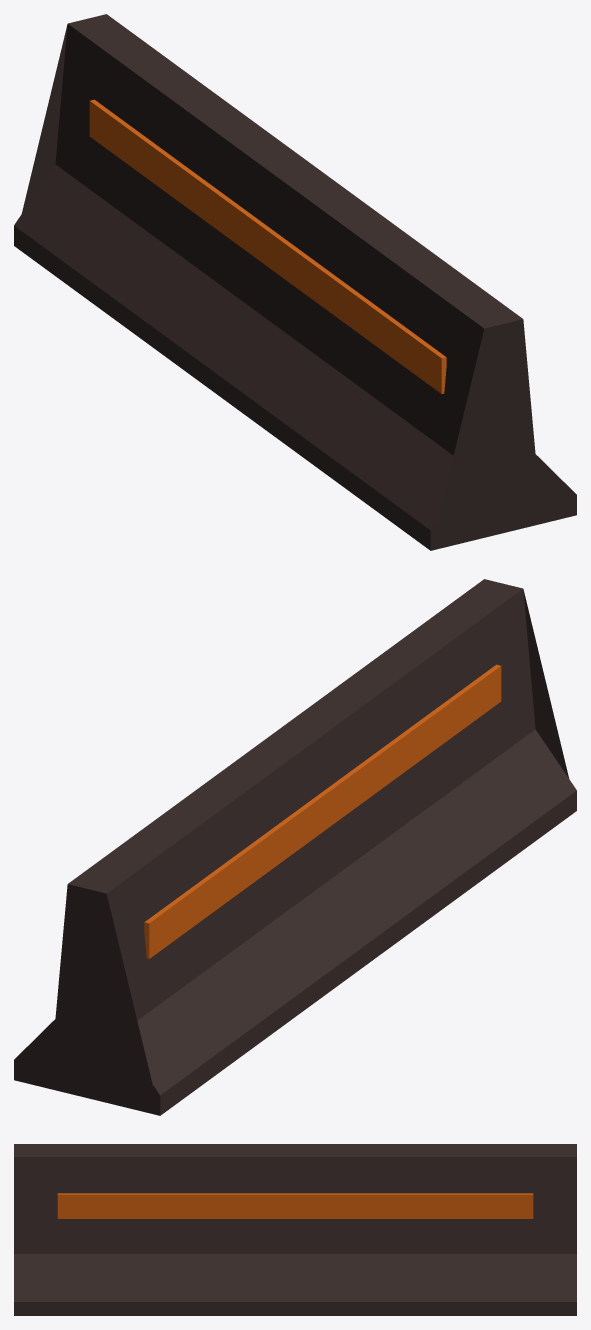
Rendered from hl_trk_jersey.glb.
3 views of the same model, one above another, from view 1: azimuth 30°, elevation 25°; view 2: azimuth 150°, elevation 25°; view 3: azimuth 270°, elevation 25° (orthographic). The views are drawn at different scales.
Visible parts, largest first — view 1: hl_trk_jersey; view 2: hl_trk_jersey; view 3: hl_trk_jersey.
Boxes of the visible parts, bbox=[...] form: hl_trk_jersey: bbox=[14, 14, 576, 550]; hl_trk_jersey: bbox=[14, 579, 576, 1115]; hl_trk_jersey: bbox=[14, 1144, 576, 1315].
Size of the model in its own units: 0.5998 by 0.82 by 2.96.
